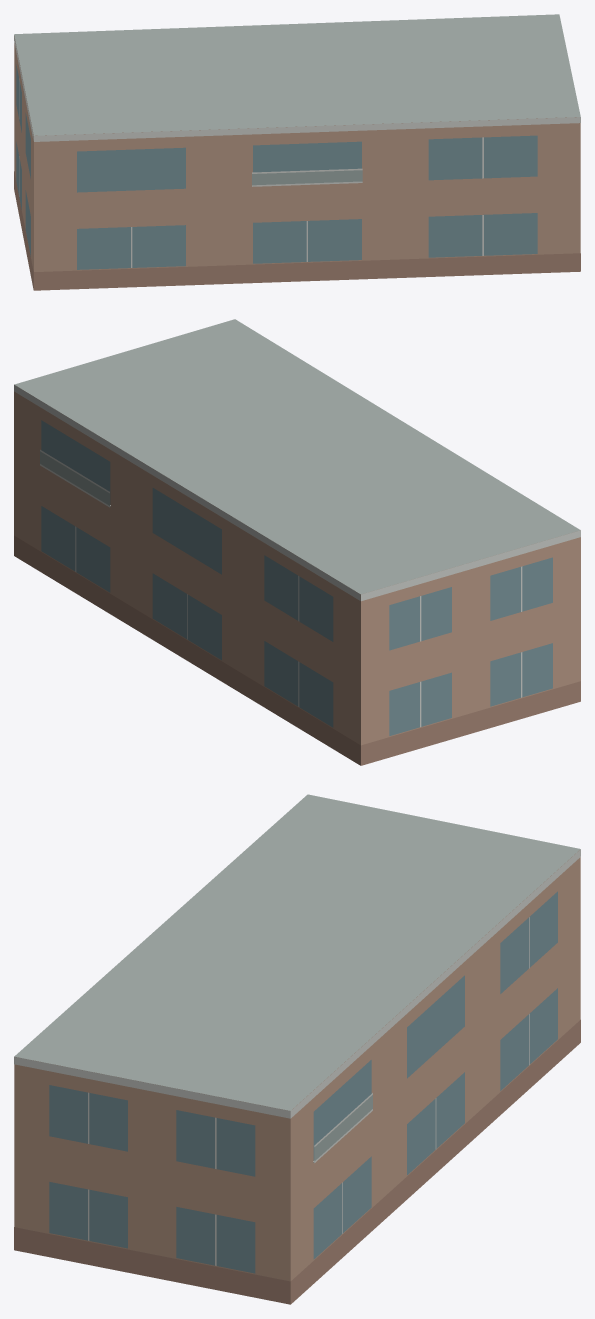
The model's file is survey-upis-32721047.glb.
3 renders of one model, top to bottom at view 1: azimuth 30°, elevation 25°; view 2: azimuth 150°, elevation 25°; view 3: azimuth 270°, elevation 25°, orthographic. The views are drawn at different scales.
Visible parts, largest first — view 1: survey-upis-32721047.tmp; view 2: survey-upis-32721047.tmp; view 3: survey-upis-32721047.tmp.
Boxes of the visible parts, x1,y1,x2,y2 form: survey-upis-32721047.tmp: [14, 14, 580, 290]; survey-upis-32721047.tmp: [14, 319, 580, 765]; survey-upis-32721047.tmp: [14, 794, 580, 1304].
Bounding box in the file's own units: 21.41 × 6.1 × 16.19.
